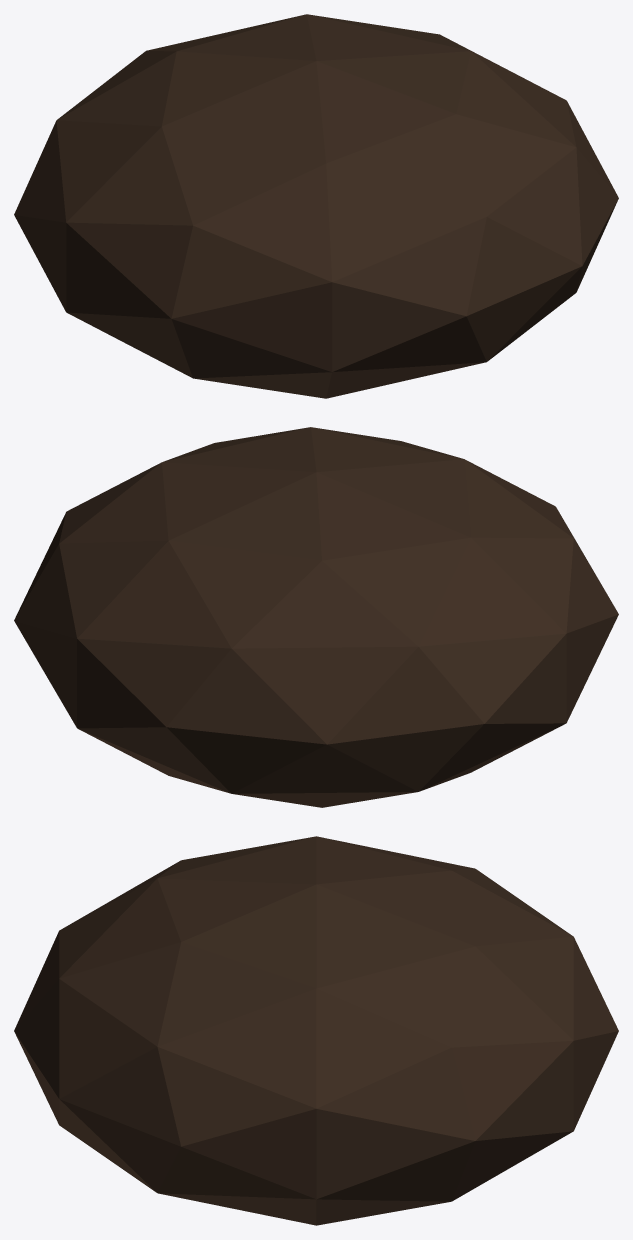
File: hair.shaved.glb
3 views of the same model, one above another, from view 1: azimuth 30°, elevation 25°; view 2: azimuth 150°, elevation 25°; view 3: azimuth 270°, elevation 25° (orthographic).
Parts seen in each view (by area): view 1: head@shaved.team.hair; view 2: head@shaved.team.hair; view 3: head@shaved.team.hair.
Boxes of the visible parts, box(x1,y1,x2,y2) form: head@shaved.team.hair: box(14, 14, 618, 398); head@shaved.team.hair: box(14, 427, 618, 807); head@shaved.team.hair: box(14, 836, 618, 1225).
Size of the model in its own units: 0.3062 by 0.17 by 0.318.
